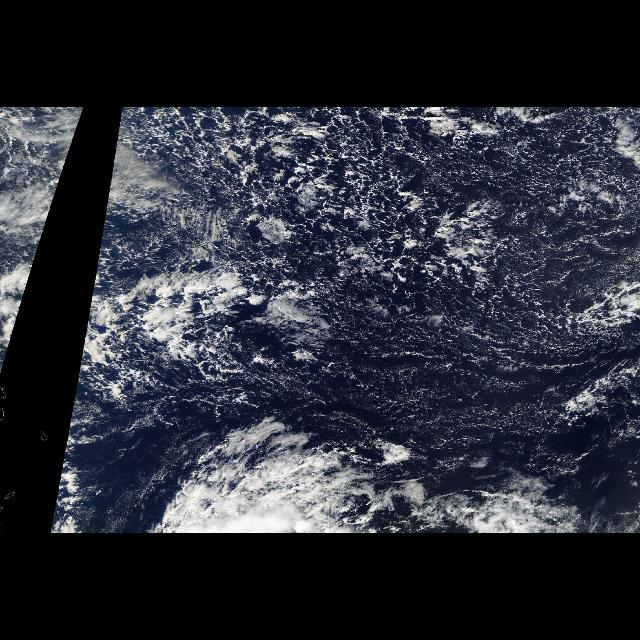Gravel: (176, 107, 554, 303)
Sugar: (340, 151, 640, 447)
